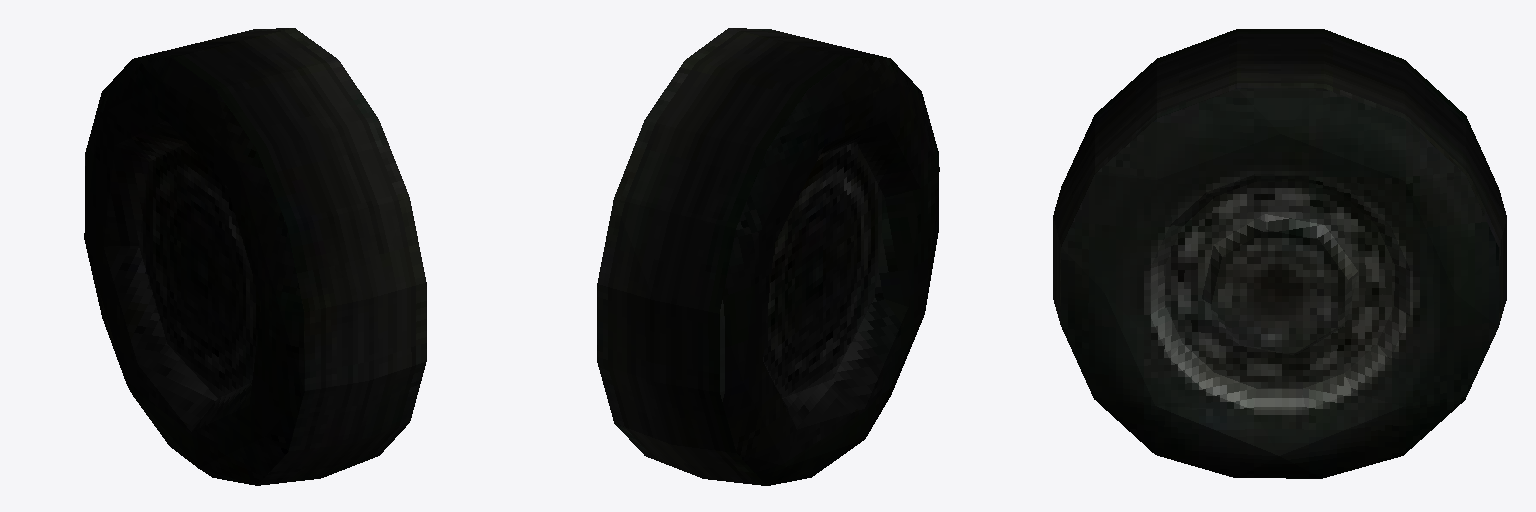
The picture shows the model from 3 angles: view 1: azimuth 30°, elevation 25°; view 2: azimuth 150°, elevation 25°; view 3: azimuth 270°, elevation 25°; orthographic projection.
Visible parts, largest first — view 1: Object_van1.jpg.001; view 2: Object_van1.jpg.001; view 3: Object_van1.jpg.001.
Part boxes in pixels (bbox=[...]): Object_van1.jpg.001: bbox=[84, 28, 426, 485]; Object_van1.jpg.001: bbox=[597, 28, 939, 485]; Object_van1.jpg.001: bbox=[1053, 29, 1506, 478].
Size of the model in its own units: 0.663 by 1.54 by 1.61.
Materials: 1 (1 with a texture image).